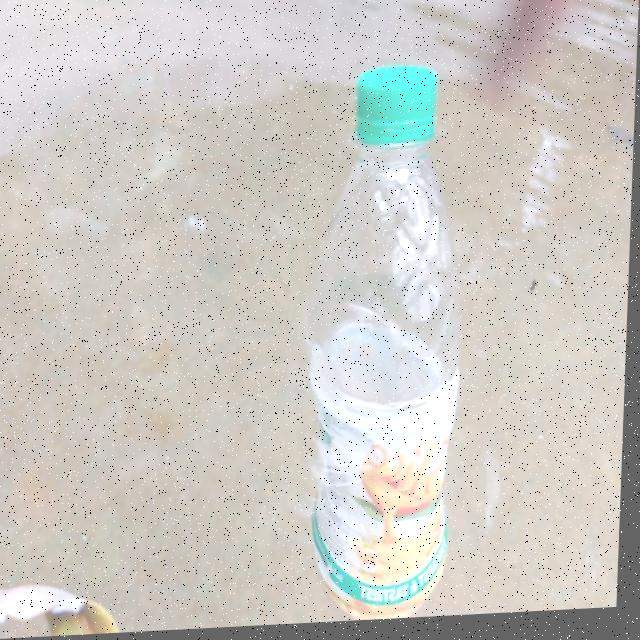leaf: (0, 574, 152, 639)
waterbottle: (272, 71, 474, 628)
